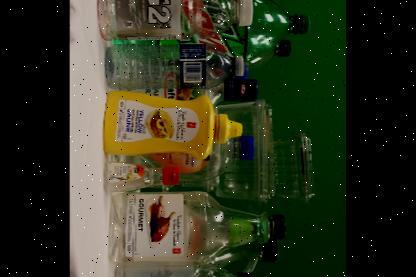Others: (104, 90, 243, 159), (270, 130, 314, 203)
Plastic Bottle: (108, 0, 312, 65), (108, 192, 285, 264), (107, 39, 246, 88), (94, 0, 256, 39), (111, 264, 256, 277)
